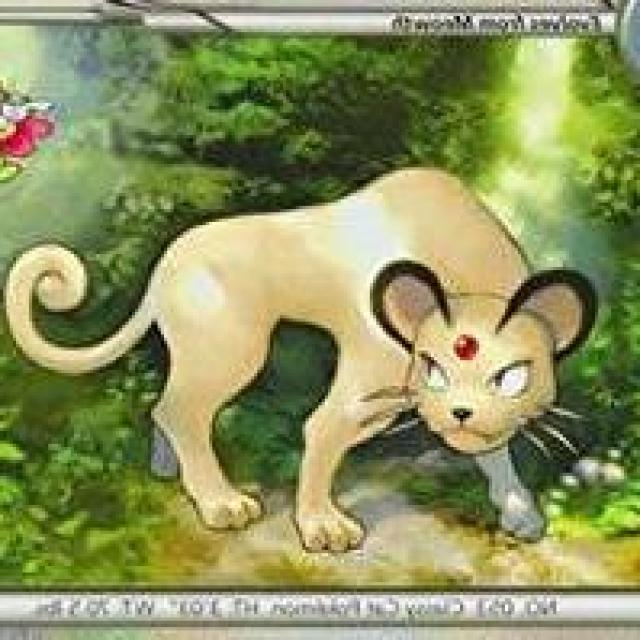Persian: (136, 166, 594, 537)
